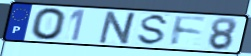1: (67, 8, 87, 43)
8: (206, 16, 238, 52)
F: (170, 14, 209, 48)
N: (96, 10, 141, 46)
O: (30, 7, 68, 41)
S: (135, 13, 171, 47)
